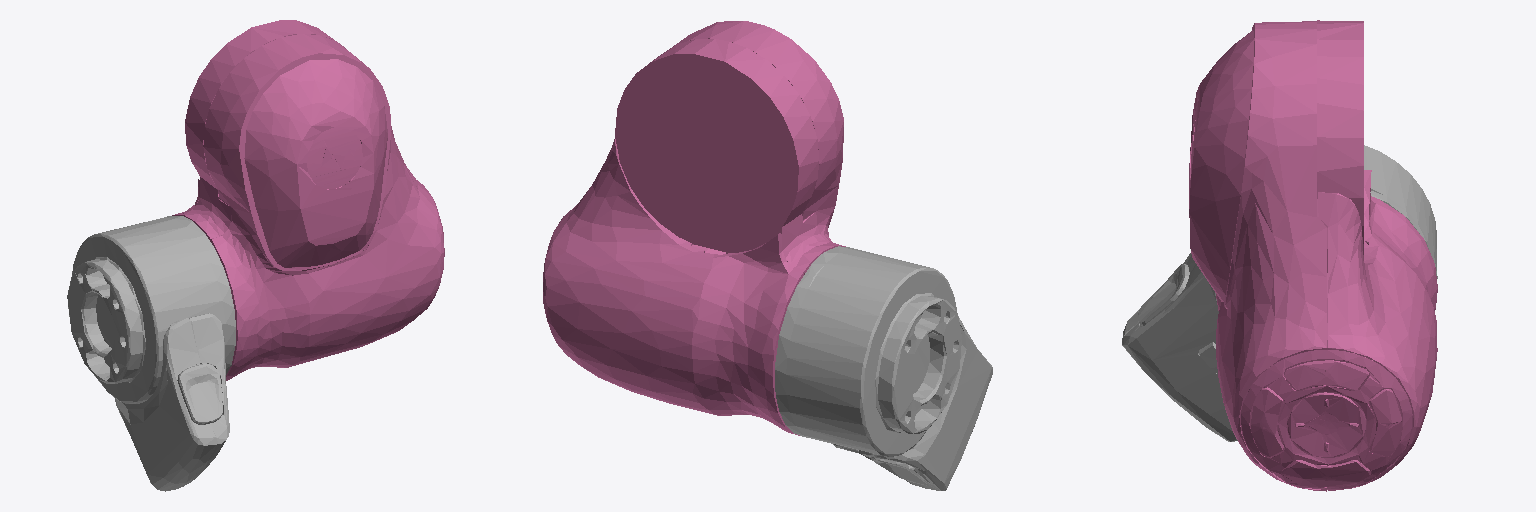
URDF robot description (panda):
<?xml version="1.0"?>
<robot name="panda"
    xmlns:xacro="http://www.ros.org/wiki/xacro">
    <link name="base_link">
        <visual>
            <geometry>
                <mesh filename="meshes/link0.stl"/>
            </geometry>
            <material name="panda_grey"/>
        </visual>
        <collision>
            <geometry>
                <mesh filename="meshes/link0.stl"/>
            </geometry>
            <material name="panda_grey"/>
        </collision>
        <inertial>
            <mass value="0" />
            <origin xyz="-0.025566 -2.88e-05 0.057332" rpy="0 0 0" />
            <inertia ixx="0.00782229414331" ixy="-1.56191622996e-05" ixz="-0.00126005738123" iyy="0.0109027971813" iyz="1.08233858202e-05" izz="0.0102355503949" />
        </inertial>
    </link>
    <link name="panda_link1">
        <visual>
            <geometry>
                <mesh filename="meshes/link1.stl"/>
            </geometry>
            <material name="panda_red"/>
        </visual>
        <collision>
            <geometry>
                <mesh filename="meshes/link1.stl"/>
            </geometry>
            <material name="panda_red"/>
        </collision>
        <inertial>
            <mass value="2.74" />
            <origin xyz="0 -0.0324958 -0.0675818" rpy="0 0 0" />
            <inertia ixx="0.0180416958283" ixy="0.0" ixz="0.0" iyy="0.0159136071891" iyz="0.0046758424612" izz="0.00620690827127" />
        </inertial>
    </link>
    <joint name="panda_joint1" type="revolute">
        <safety_controller k_position="100.0" k_velocity="40.0" soft_lower_limit="-2.8973" soft_upper_limit="2.8973"/>
        <origin rpy="0 0 0" xyz="0 0 0.333"/>
        <parent link="base_link"/>
        <child link="panda_link1"/>
        <axis xyz="0 0 1"/>
        <limit effort="87" lower="-2.8973" upper="2.8973" velocity="2.1750"/>
    </joint>
    <link name="panda_link2">
        <visual>
            <geometry>
                <mesh filename="meshes/link2.stl"/>
            </geometry>
            <material name="panda_grey"/>
        </visual>
        <collision>
            <geometry>
                <mesh filename="meshes/link2.stl"/>
            </geometry>
            <material name="panda_grey"/>
        </collision>
        <inertial>
            <mass value="2.74" />
            <origin xyz="0 -0.06861 0.0322285" rpy="0 0 0" />
            <inertia ixx="0.0182856182281" ixy="0.0" ixz="0.0" iyy="0.00621358421175" iyz="-0.00472844221905" izz="0.0161514346309" />
        </inertial>
    </link>
    <joint name="panda_joint2" type="revolute">
        <safety_controller k_position="100.0" k_velocity="40.0" soft_lower_limit="-1.7628" soft_upper_limit="1.7628"/>
        <origin rpy="-1.57079632679 0 0" xyz="0 0 0"/>
        <parent link="panda_link1"/>
        <child link="panda_link2"/>
        <axis xyz="0 0 1"/>
        <limit effort="87" lower="-1.7628" upper="1.7628" velocity="2.1750"/>
    </joint>
    <link name="panda_link3">
        <visual>
            <geometry>
                <mesh filename="meshes/link3.stl"/>
            </geometry>
            <material name="panda_red"/>
        </visual>
        <collision>
            <geometry>
                <mesh filename="meshes/link3.stl"/>
            </geometry>
            <material name="panda_red"/>
        </collision>
        <inertial>
            <mass value="2.38" />
            <origin xyz="0.0469893 0.0316374 -0.031704" rpy="0 0 0" />
            <inertia ixx="0.00771376630908" ixy="-0.00248490625138" ixz="-0.00332147581033" iyy="0.00989108008727" iyz="-0.00217796151484" izz="0.00811723558464" />
        </inertial>
    </link>
    <joint name="panda_joint3" type="revolute">
        <safety_controller k_position="100.0" k_velocity="40.0" soft_lower_limit="-2.8973" soft_upper_limit="2.8973"/>
        <origin rpy="1.57079632679 0 0" xyz="0 -0.316 0"/>
        <parent link="panda_link2"/>
        <child link="panda_link3"/>
        <axis xyz="0 0 1"/>
        <limit effort="87" lower="-2.8973" upper="2.8973" velocity="2.1750"/>
    </joint>
    <link name="panda_link4">
        <visual>
            <geometry>
                <mesh filename="meshes/link4.stl"/>
            </geometry>
            <material name="panda_grey"/>
        </visual>
        <collision>
            <geometry>
                <mesh filename="meshes/link4.stl"/>
            </geometry>
            <material name="panda_grey"/>
        </collision>
        <inertial>
            <mass value="2.38" />
            <origin xyz="-0.0360446 0.0336853 0.031882" rpy="0 0 0" />
            <inertia ixx="0.00799663881132" ixy="0.00347095570217" ixz="-0.00241222942995" iyy="0.00825390705278" iyz="0.00235774044121" izz="0.0102515004345" />
        </inertial>
    </link>
    <joint name="panda_joint4" type="revolute">
        <safety_controller k_position="100.0" k_velocity="40.0" soft_lower_limit="-3.0718" soft_upper_limit="-0.0698"/>
        <origin rpy="1.57079632679 0 0" xyz="0.0825 0 0"/>
        <parent link="panda_link3"/>
        <child link="panda_link4"/>
        <axis xyz="0 0 1"/>
        <limit effort="87" lower="-3.0718" upper="-0.0698" velocity="2.1750"/>
    </joint>
    <link name="panda_link5">
        <visual>
            <geometry>
                <mesh filename="meshes/link5.stl"/>
            </geometry>
            <material name="panda_red"/>
        </visual>
        <collision>
            <geometry>
                <mesh filename="meshes/link5.stl"/>
            </geometry>
            <material name="panda_red"/>
        </collision>
        <inertial>
            <mass value="2.74" />
            <origin xyz="0 0.0610427 -0.104176" rpy="0 0 0" />
            <inertia ixx="0.030371374513" ixy="6.50283587108e-07" ixz="-1.05129179916e-05" iyy="0.0288752887402" iyz="-0.00775653445787" izz="0.00444134056164" />
        </inertial>
    </link>
    <joint name="panda_joint5" type="revolute">
        <safety_controller k_position="100.0" k_velocity="40.0" soft_lower_limit="-2.8973" soft_upper_limit="2.8973"/>
        <origin rpy="-1.57079632679 0 0" xyz="-0.0825 0.384 0"/>
        <parent link="panda_link4"/>
        <child link="panda_link5"/>
        <axis xyz="0 0 1"/>
        <limit effort="12" lower="-2.8973" upper="2.8973" velocity="2.6100"/>
    </joint>
    <link name="panda_link6">
        <visual>
            <geometry>
                <mesh filename="meshes/link6.stl"/>
            </geometry>
            <material name="panda_grey"/>
        </visual>
        <collision>
            <geometry>
                <mesh filename="meshes/link6.stl"/>
            </geometry>
            <material name="panda_grey"/>
        </collision>
        <inertial>
            <mass value="1.55" />
            <origin xyz="0.0510509 0.009108 0.0106343" rpy="0 0 0" />
            <inertia ixx="0.00303336450376" ixy="-0.000437276865508" ixz="0.000629257294877" iyy="0.00404479911567" iyz="0.000130472021025" izz="0.00558234286039" />
        </inertial>
    </link>
    <joint name="panda_joint6" type="revolute">
        <safety_controller k_position="100.0" k_velocity="40.0" soft_lower_limit="-0.0175" soft_upper_limit="3.7525"/>
        <origin rpy="1.57079632679 0 0" xyz="0 0 0"/>
        <parent link="panda_link5"/>
        <child link="panda_link6"/>
        <axis xyz="0 0 1"/>
        <limit effort="12" lower="-0.0175" upper="3.7525" velocity="2.6100"/>
    </joint>
    <link name="panda_link7">
        <visual>
            <geometry>
                <mesh filename="meshes/link7.stl"/>
            </geometry>
            <material name="panda_red"/>
        </visual>
        <collision>
            <geometry>
                <mesh filename="meshes/link7.stl"/>
            </geometry>
            <material name="panda_red"/>
        </collision>
        <inertial>
            <mass value="0.54" />
            <origin xyz="0.0109695 0.0107965 0.0650411" rpy="0 0 0" />
            <inertia ixx="0.000888868887021" ixy="-0.00012239074652" ixz="3.98699829666e-05" iyy="0.000888001373233" iyz="-9.33825115206e-05" izz="0.0007176834609" />
        </inertial>
    </link>
    <joint name="panda_joint7" type="revolute">
        <safety_controller k_position="100.0" k_velocity="40.0" soft_lower_limit="-2.8973" soft_upper_limit="2.8973"/>
        <origin rpy="1.57079632679 0 0" xyz="0.088 0 0"/>
        <parent link="panda_link6"/>
        <child link="panda_link7"/>
        <axis xyz="0 0 1"/>
        <limit effort="12" lower="-2.8973" upper="2.8973" velocity="2.6100"/>
    </joint>
    <material name="panda_red">
        <color rgba="0.5. 0.2. 0.2. 1."/>
    </material>
    <material name="panda_grey">
        <color rgba="0.2. 0.2. 0.5. 1."/>
    </material>
</robot>

--- What the picture shows (computed from the rendered views, not written in the file) ---
Views: 3 orthographic renders of the robot side by side, from view 1: azimuth 30°, elevation 25°; view 2: azimuth 150°, elevation 25°; view 3: azimuth 270°, elevation 25°.
Robot: panda — 8 links, 7 joints (7 revolute); root link base_link; default pose: joints at zero except 1 at the middle of their limits (panda_joint4 = -1.57).
Visible links, largest first — view 1: panda_link6, panda_link7; view 2: panda_link6, panda_link7; view 3: panda_link6, panda_link7.
Boxes of the visible links, x1=… form: panda_link6: x1=172, y1=20, x2=444, y2=380; panda_link7: x1=67, y1=216, x2=235, y2=491; panda_link6: x1=543, y1=21, x2=845, y2=435; panda_link7: x1=775, y1=246, x2=992, y2=490; panda_link6: x1=1189, y1=20, x2=1437, y2=491; panda_link7: x1=1122, y1=145, x2=1437, y2=441.
Bounding box of the posed robot: 0.1886 × 0.1254 × 0.2172 m (x, y, z).
Meshes: 8 distinct files referenced, 2 mesh visuals loaded (2 binary STL); not drawn: 6 (reference not matched to a file when rendering).